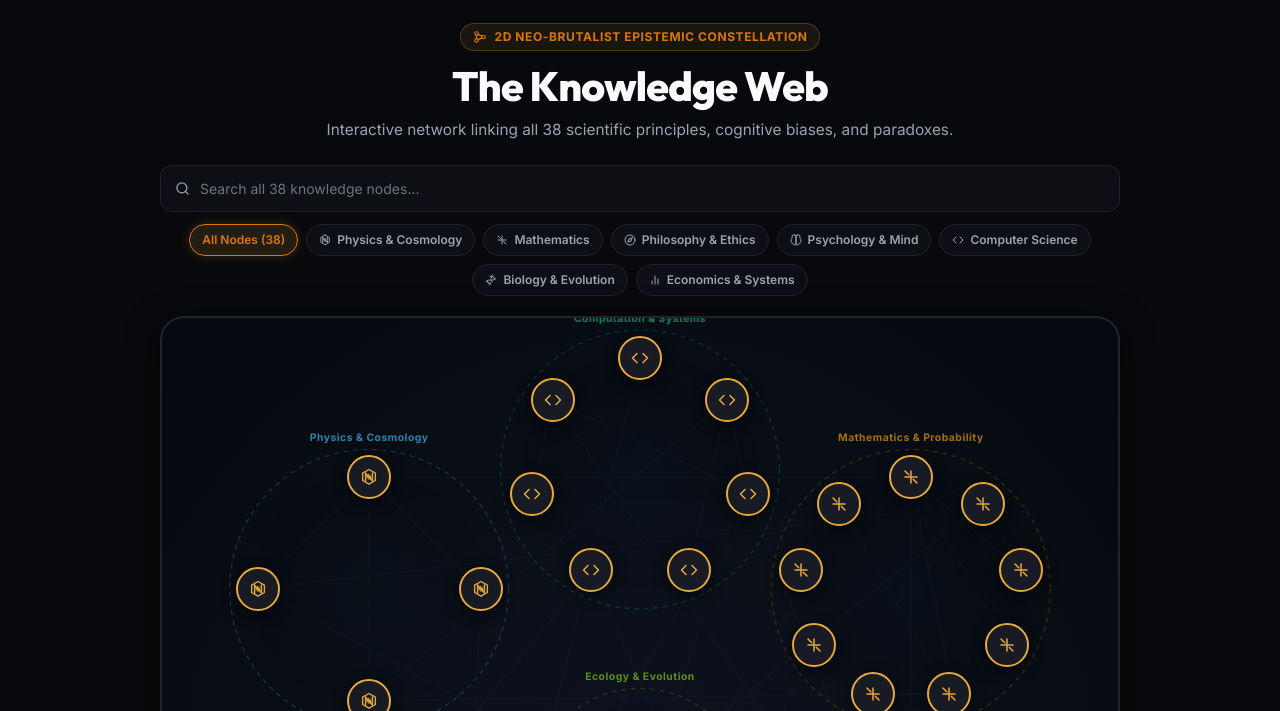
KnowledgeNodeGraph Component › selects a node on click and reveals the active telemetry inspection card
Click the link titled "The CAP Theorem": [689, 570] box [680, 561, 698, 579]
(page scrolled)
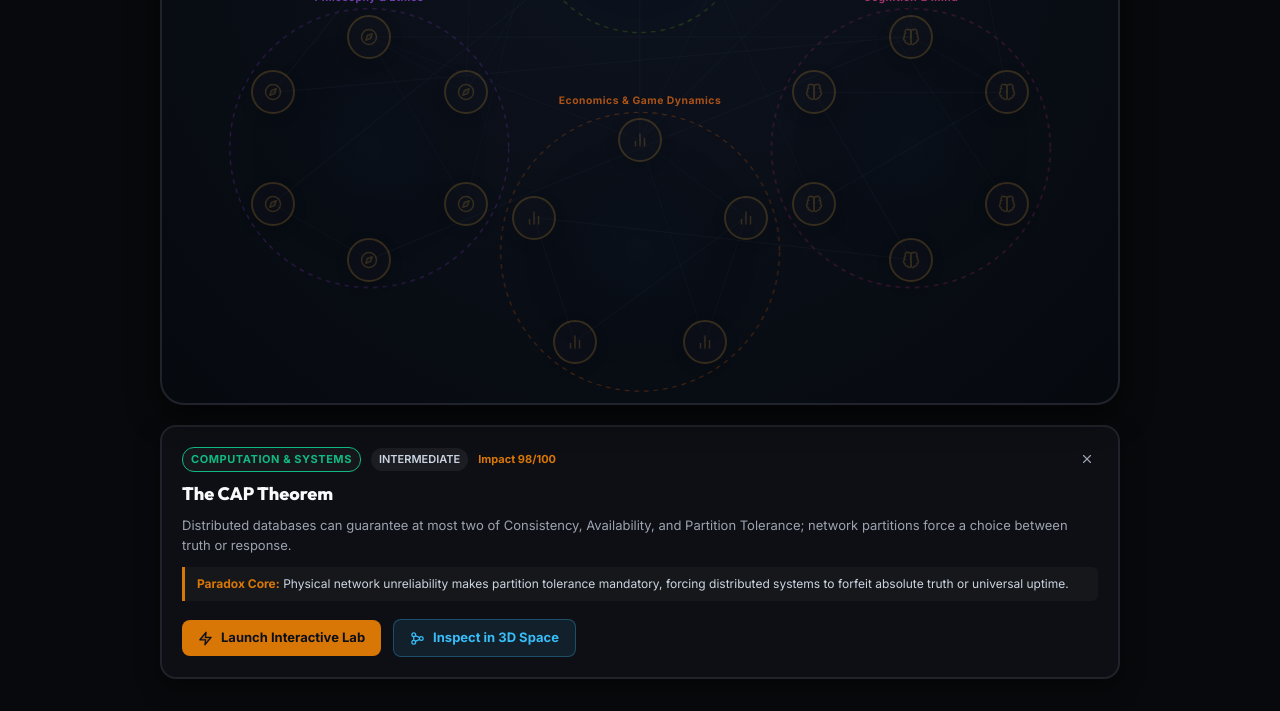
Expected: the heading "The CAP Theorem" is shown, [182, 482, 333, 505]
Expected: the text "Launch Interactive Lab" is shown, [221, 628, 365, 648]
Expected: the text "Inspect in 3D Space" is shown, [433, 628, 559, 648]
# Close button dismisses active card
Click the button named "Deselect node": [1087, 459] box [1076, 448, 1098, 470]
(page scrolled)
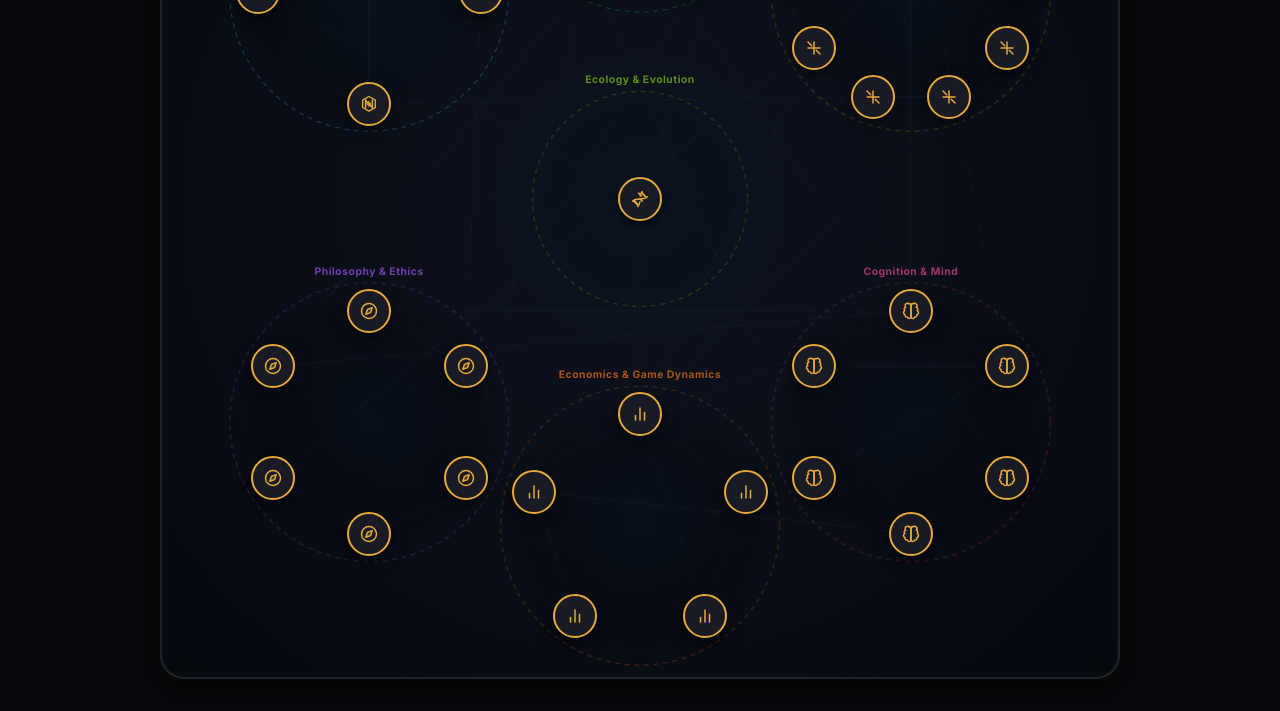
Expected: the heading "The CAP Theorem" is gone
